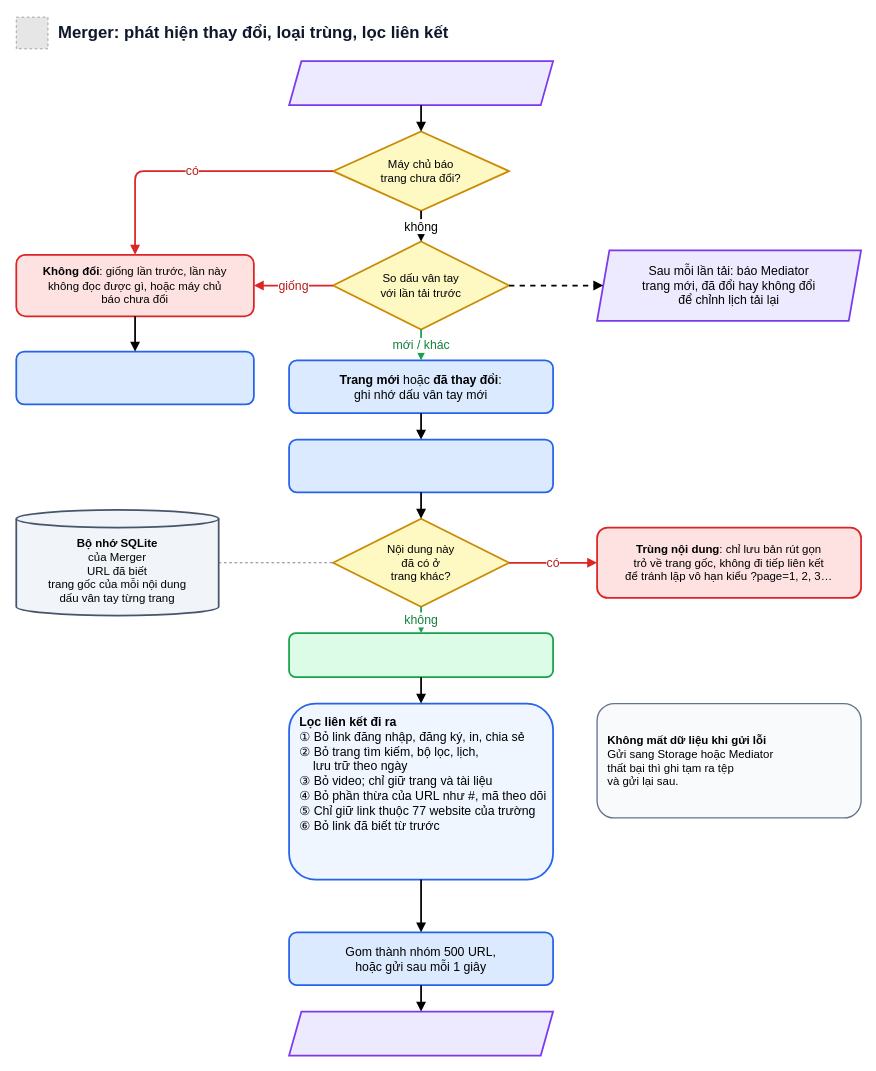
Image size: 876x1071. Some labels were removed from this diagram. Grey dashed boxes stand in for pictures. The shapes that lost their labels are listed below. From the top down, each one's centre as x and y in pixels, then its label:
pixel 421 83: Nhận bản ghi từ Reader
pixel 134 377: Storage chỉ ghi thời điểm kiểm tra; không đi tiếp các liên kết
pixel 421 465: Tính mã băm của nội dung trang
pixel 421 655: Storage lưu bản ghi đầy đủ
pixel 421 1033: Gửi URL mới sang Mediator
